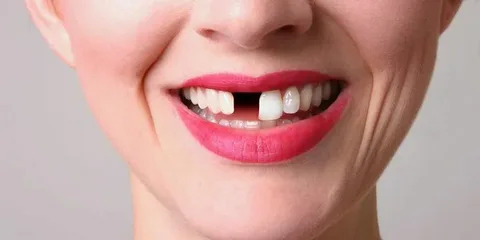Missing: (219, 87, 278, 116)
